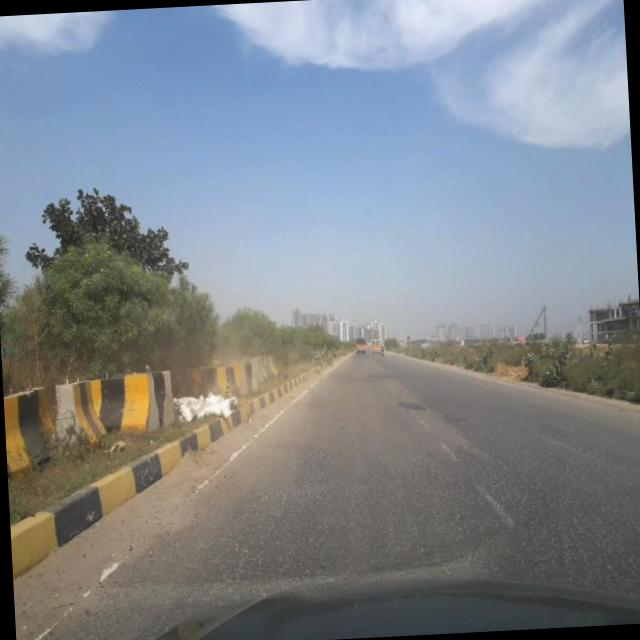crack: (71, 429, 640, 608)
